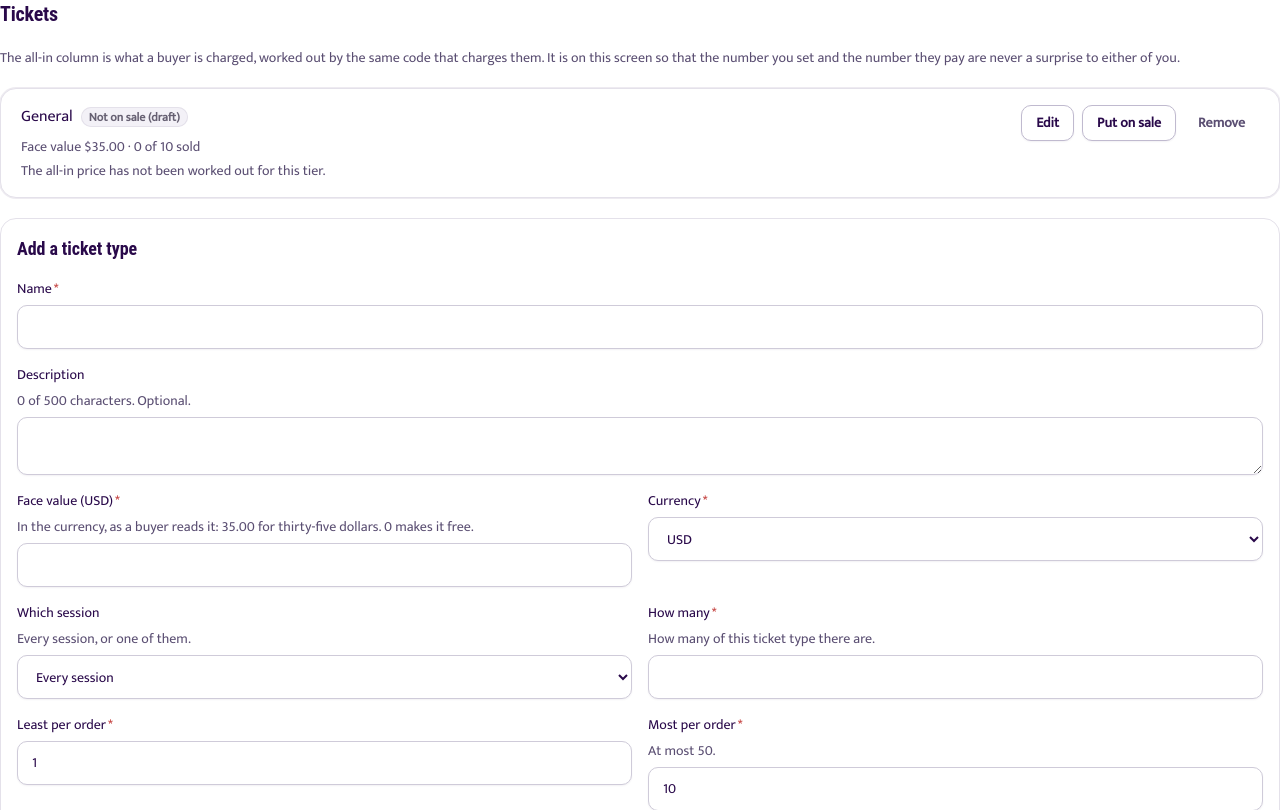
removing a ticket type › asks first, then sends the revision in the query string and no body
This screenshot has width=1280, height=810.
Step 1. Click the button "Remove" → (1222, 123), box [1184,105,1259,141]
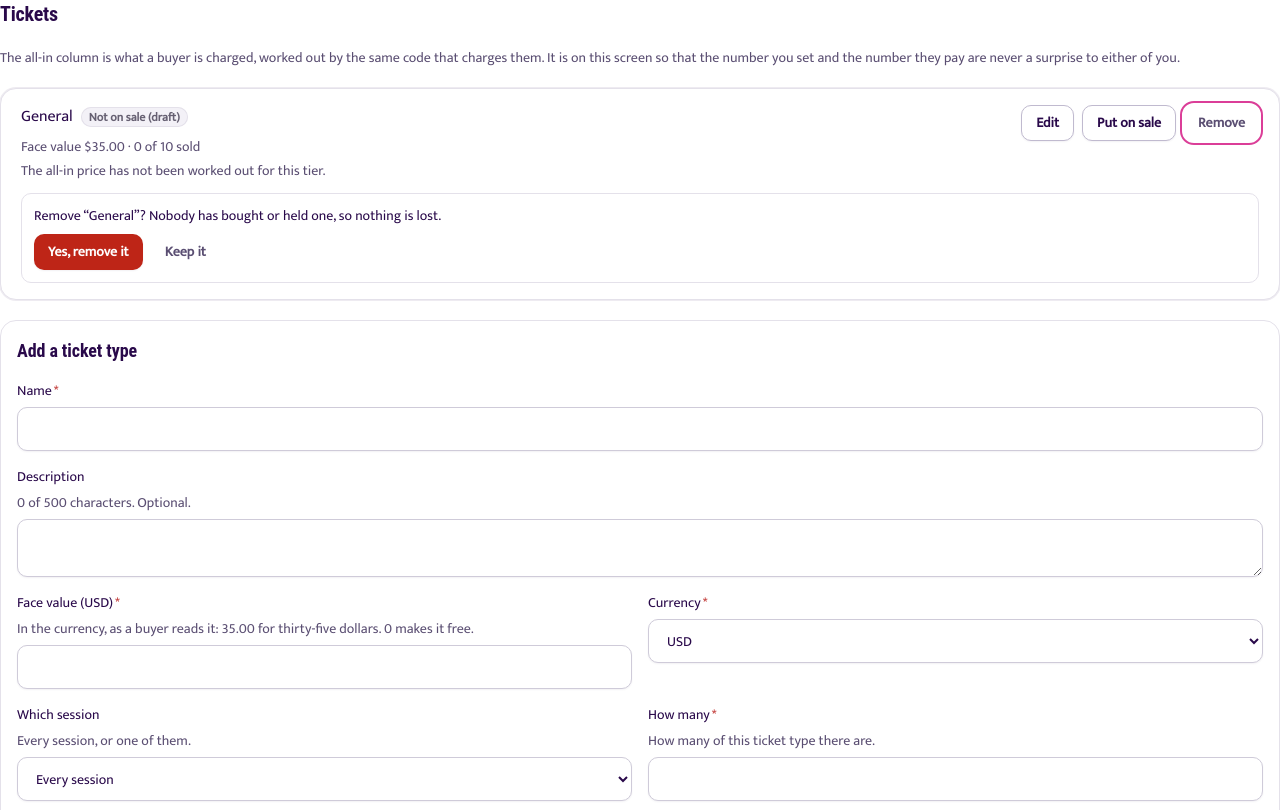
Step 2. Click the button "Yes, remove it" → (88, 252), box [34,234,143,270]
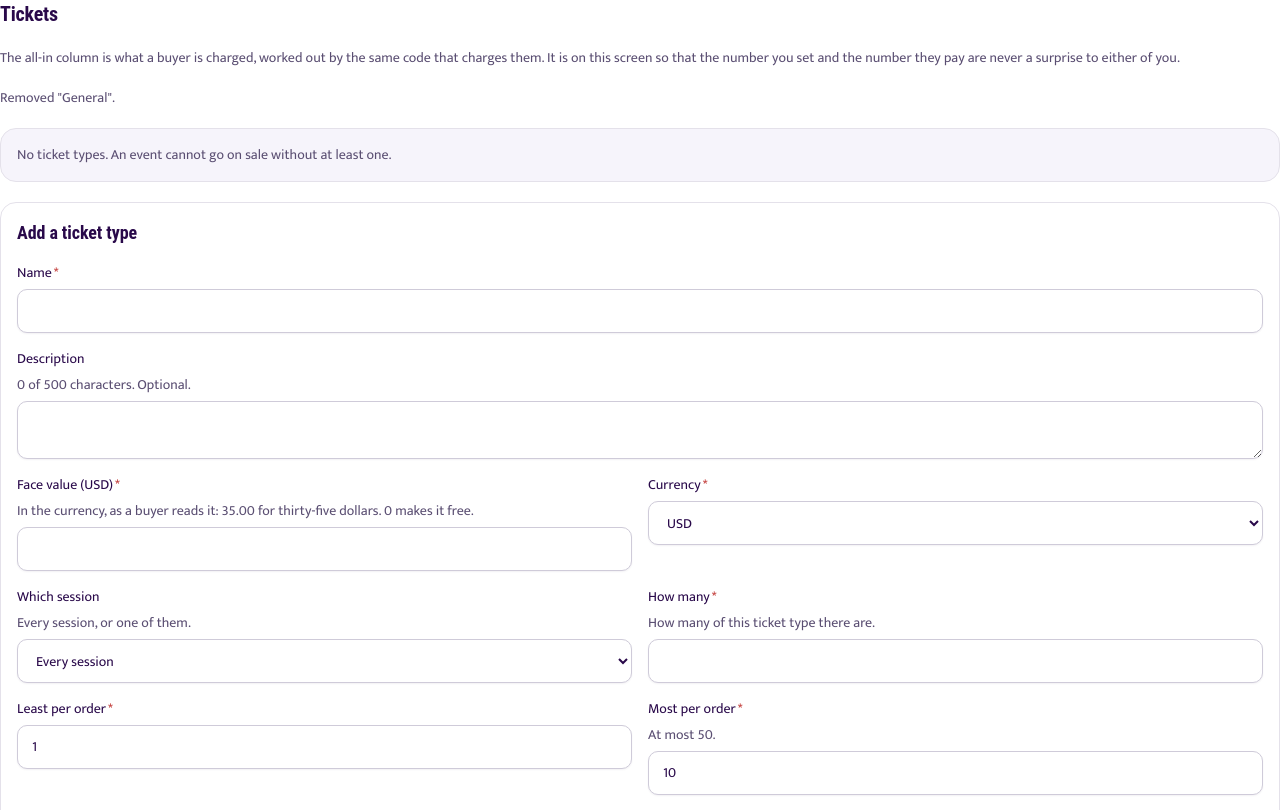
Result: the text "No ticket types. An event cannot go on sale" is shown at [17,143,392,166]
